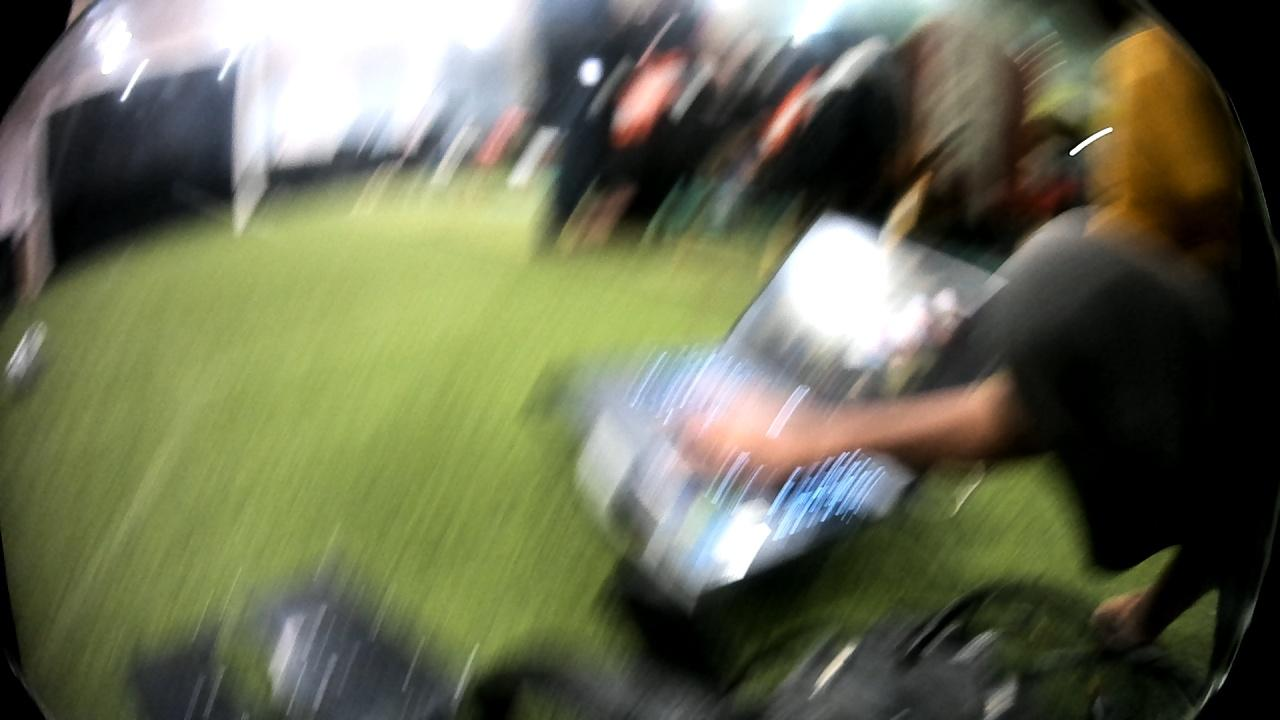ball: (0, 316, 52, 401)
